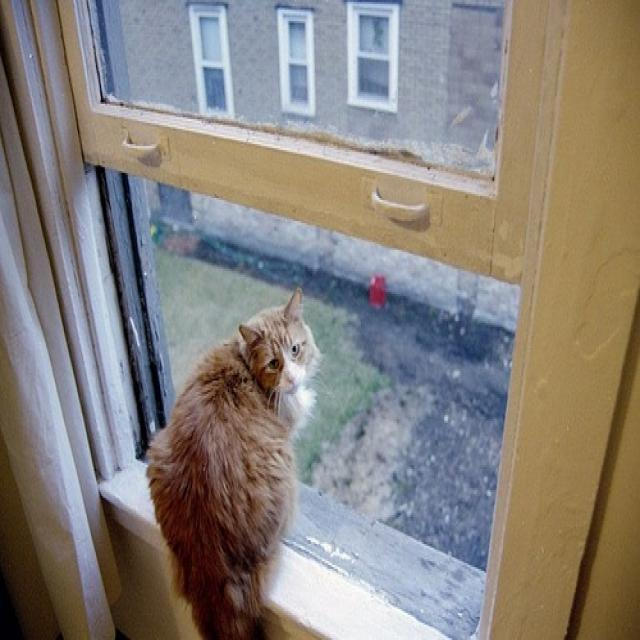cat: (143, 284, 322, 639)
